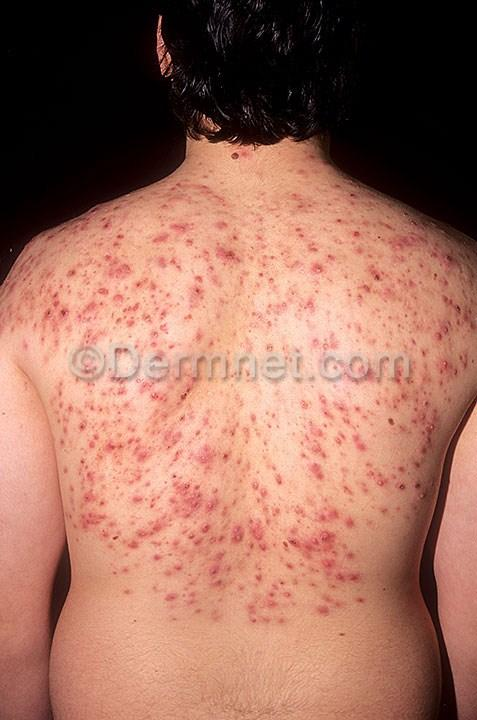Acne: (153, 473, 259, 558), (287, 521, 362, 609), (351, 217, 430, 298), (393, 337, 452, 428), (301, 395, 370, 470), (25, 277, 102, 344), (93, 397, 147, 474), (167, 225, 246, 277), (89, 235, 150, 292)
